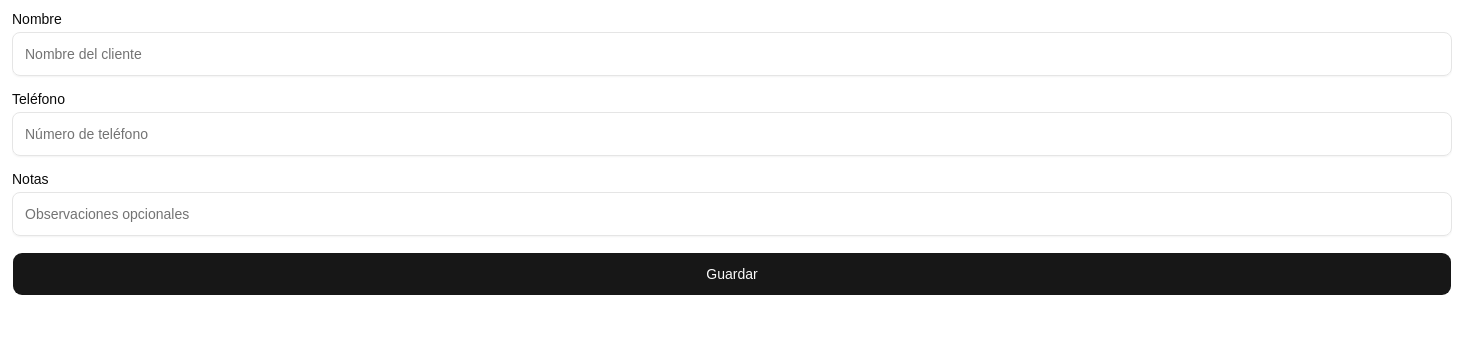
Test: FormCliente › validación › nombre es obligatorio — muestra error si vacío al submit
The image size is (1464, 364).
What coordinates should you click on to do the following:
click the button "Guardar"
I would click on:
 (732, 274)
Its box is [12,252,1452,296].
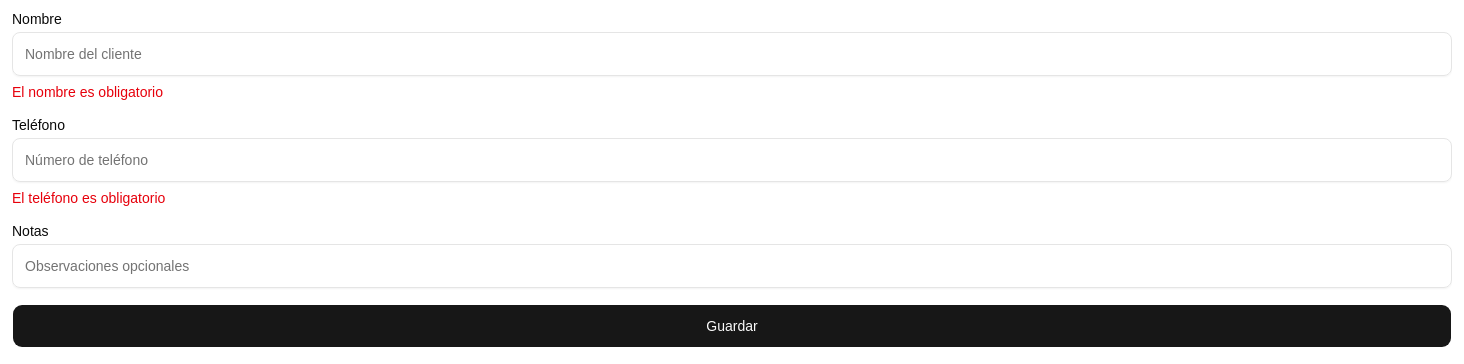
Expected: the text "El nombre es obligatorio" is shown, [12,84,163,100]
